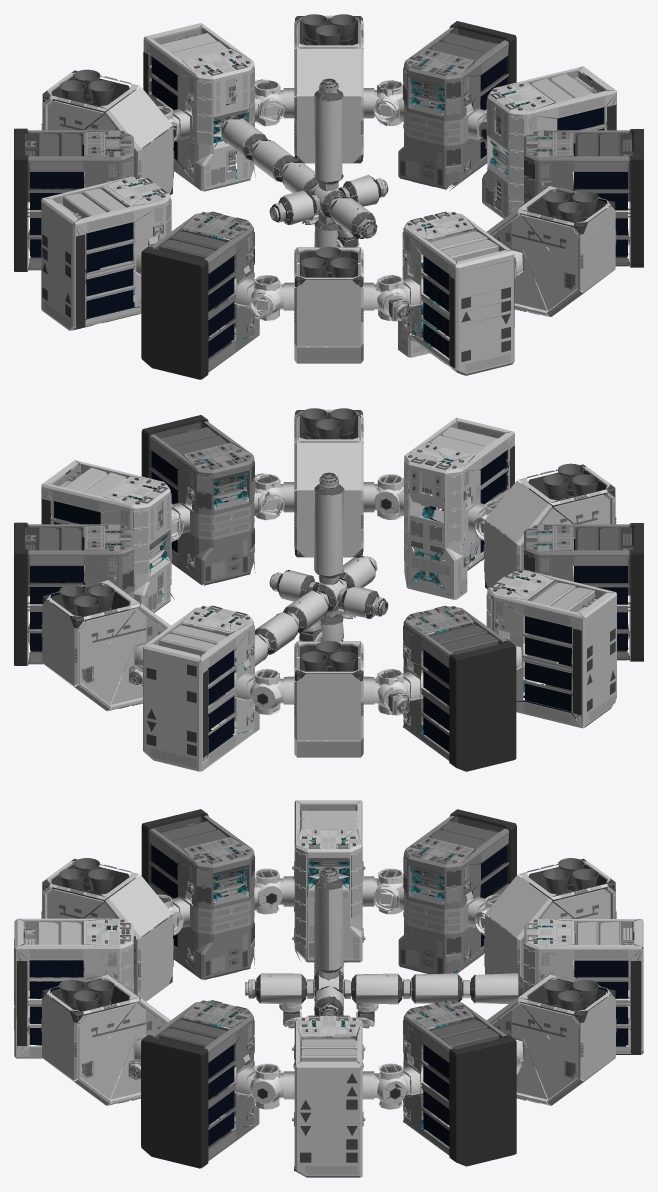
Rendered from endurance-hifi-lite.glb.
3 renders of one model, top to bottom at view 1: azimuth 30°, elevation 25°; view 2: azimuth 150°, elevation 25°; view 3: azimuth 270°, elevation 25°, orthographic.
Parts seen in each view (by area): view 1: Pod.002, Command, Habitation.001, Pod, Habitation, Engine.003, DockingHub, Lab, Pod.001, Pod.003, Engine, Engine.001 (+9 smaller); view 2: Habitation.001, Habitation, Pod.003, Command, Pod.001, Engine, Lab, Pod, DockingHub, Pod.002, Engine.002, Engine.001 (+9 smaller); view 3: Pod.001, Pod, Pod.002, Pod.003, Lab, Engine, Engine.003, DockingHub, Command, Habitation, Engine.002, Habitation.001 (+9 smaller).
Boxes of the visible parts, x1=… form: Pod.002: x1=141, y1=211, x2=259, y2=379; Command: x1=398, y1=211, x2=514, y2=375; Habitation.001: x1=41, y1=176, x2=171, y2=330; Pod: x1=398, y1=21, x2=516, y2=191; Habitation: x1=143, y1=23, x2=255, y2=191; Engine.003: x1=486, y1=186, x2=616, y2=317; DockingHub: x1=220, y1=82, x2=386, y2=247; Lab: x1=482, y1=66, x2=616, y2=218; Pod.001: x1=523, y1=129, x2=643, y2=267; Pod.003: x1=14, y1=128, x2=133, y2=271; Engine: x1=294, y1=14, x2=363, y2=163; Engine.001: x1=41, y1=69, x2=174, y2=201; Habitation.001: x1=486, y1=570, x2=616, y2=728; Habitation: x1=143, y1=605, x2=259, y2=771; Pod.003: x1=403, y1=605, x2=516, y2=771; Command: x1=404, y1=417, x2=514, y2=599; Pod.001: x1=141, y1=415, x2=255, y2=585; Engine: x1=41, y1=580, x2=171, y2=711; Lab: x1=41, y1=460, x2=174, y2=612; Pod: x1=14, y1=522, x2=134, y2=665; DockingHub: x1=230, y1=475, x2=385, y2=670; Pod.002: x1=524, y1=523, x2=643, y2=661; Engine.002: x1=483, y1=463, x2=616, y2=588; Engine.001: x1=294, y1=640, x2=363, y2=757; Pod.001: x1=141, y1=1000, x2=259, y2=1168; Pod: x1=403, y1=1000, x2=516, y2=1166; Pod.002: x1=141, y1=809, x2=255, y2=979; Pod.003: x1=398, y1=809, x2=516, y2=973; Lab: x1=292, y1=1015, x2=365, y2=1177; Engine: x1=487, y1=974, x2=616, y2=1105; Engine.003: x1=41, y1=974, x2=170, y2=1105; DockingHub: x1=248, y1=870, x2=524, y2=1037; Command: x1=14, y1=918, x2=135, y2=1058; Habitation: x1=524, y1=919, x2=643, y2=1054; Engine.002: x1=41, y1=858, x2=173, y2=1001; Habitation.001: x1=292, y1=800, x2=365, y2=962.
Bounding box in the file's own units: 9.2 × 3.06 × 9.2.
12 materials, 12 textured.
